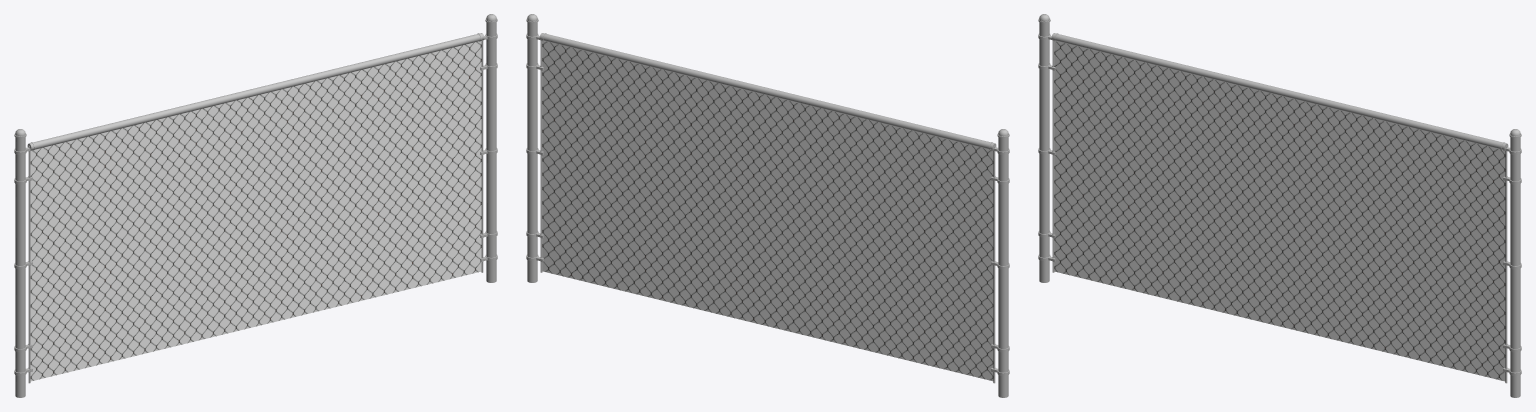
Rendered from chainlinkfence.fbx.
3 renders of one model, left to right at view 1: azimuth 30°, elevation 25°; view 2: azimuth 150°, elevation 25°; view 3: azimuth 330°, elevation 25°, orthographic.
Parts seen in each view (by area): view 1: Plane, Cylinder.002; view 2: Plane.001, Cylinder.002; view 3: Plane, Cylinder.002.
Boxes of the visible parts, <box> form: Plane: <box>30,41,481,381</box>; Cylinder.002: <box>14,14,497,397</box>; Plane.001: <box>542,41,993,381</box>; Cylinder.002: <box>526,14,1009,397</box>; Plane: <box>1054,41,1505,381</box>; Cylinder.002: <box>1038,14,1521,397</box>.
Bounding box in the file's own units: 425 × 224 × 9.4.
2 materials, 1 textured.
